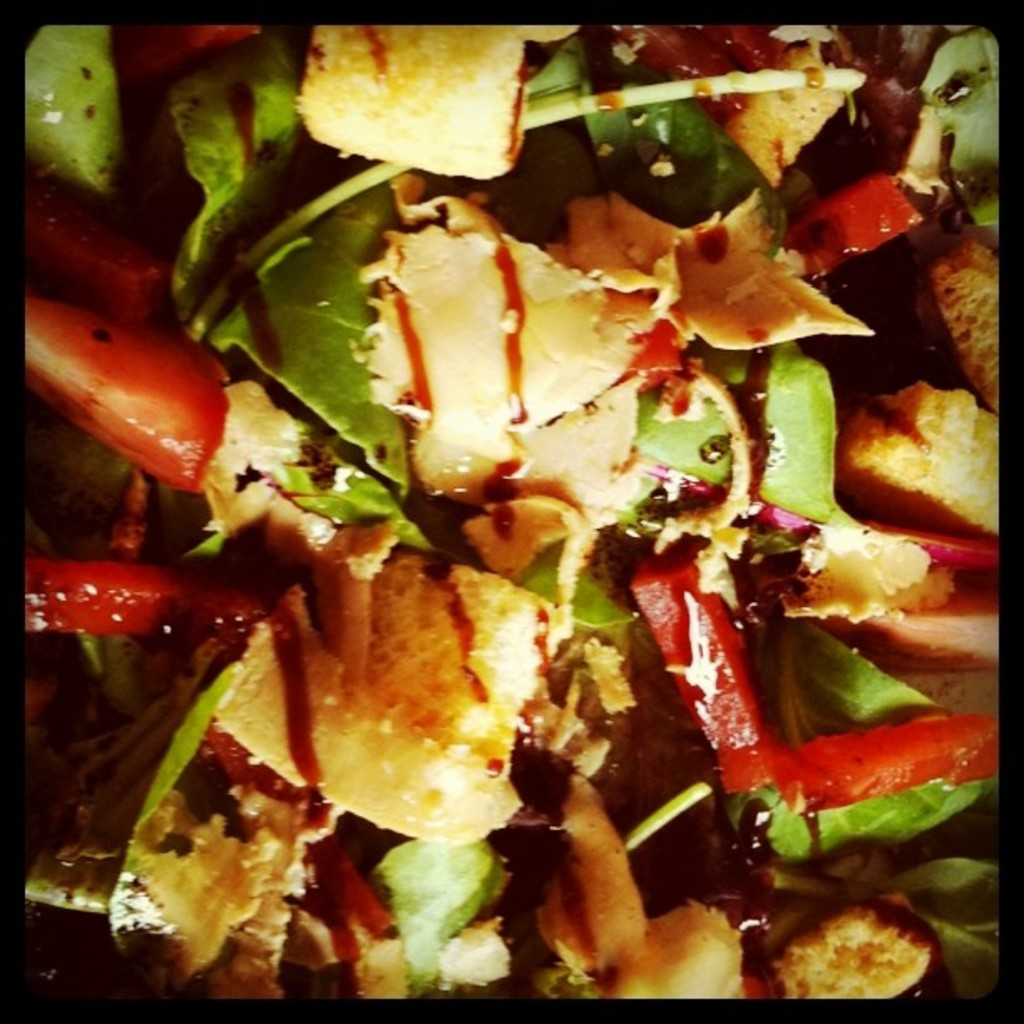salad: (0, 0, 1022, 1024)
